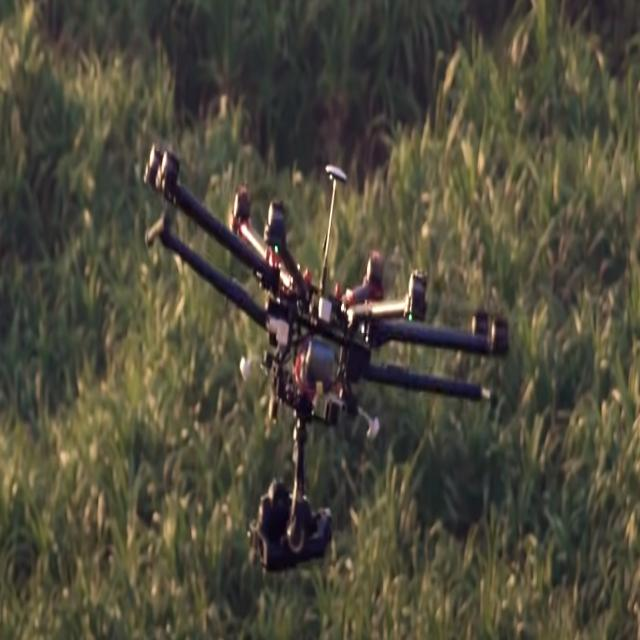drone: (133, 87, 518, 561)
